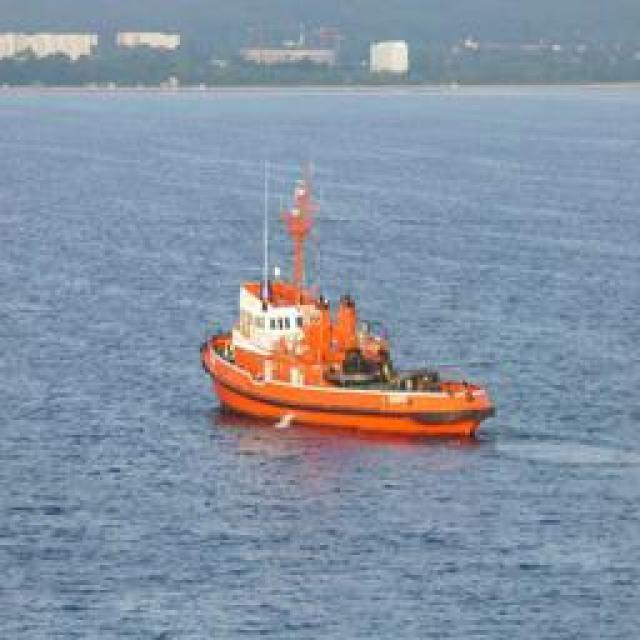ship2: (201, 162, 495, 442)
